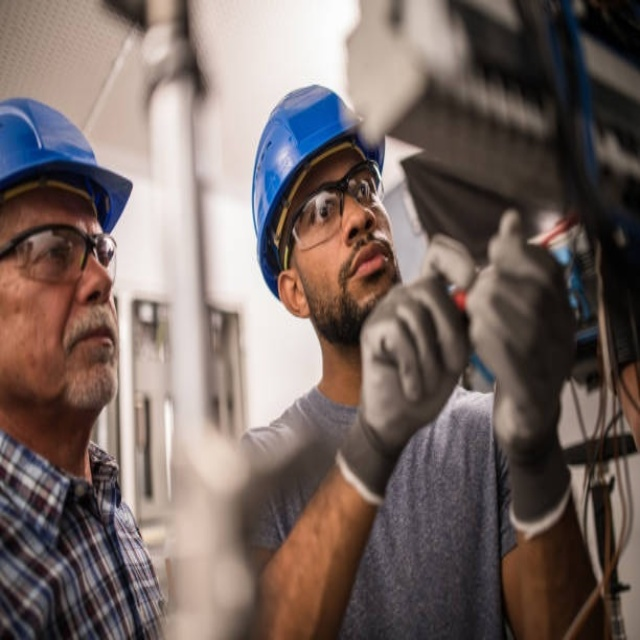Gafas: (284, 157, 385, 271), (2, 218, 122, 292)
Guantes: (336, 227, 473, 500), (472, 210, 577, 533)
Sin_mascara: (59, 307, 119, 394), (339, 234, 395, 306)
